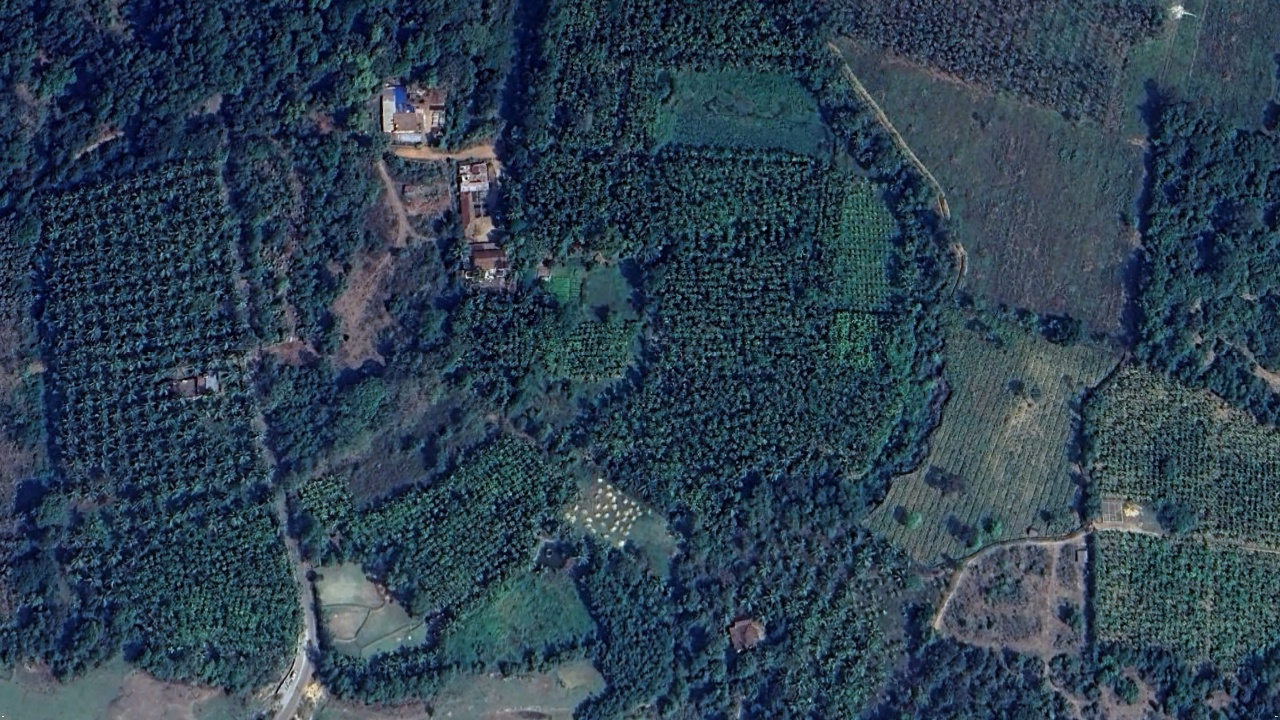arecanut: (530, 2, 903, 518), (25, 150, 297, 666), (267, 421, 588, 627)
